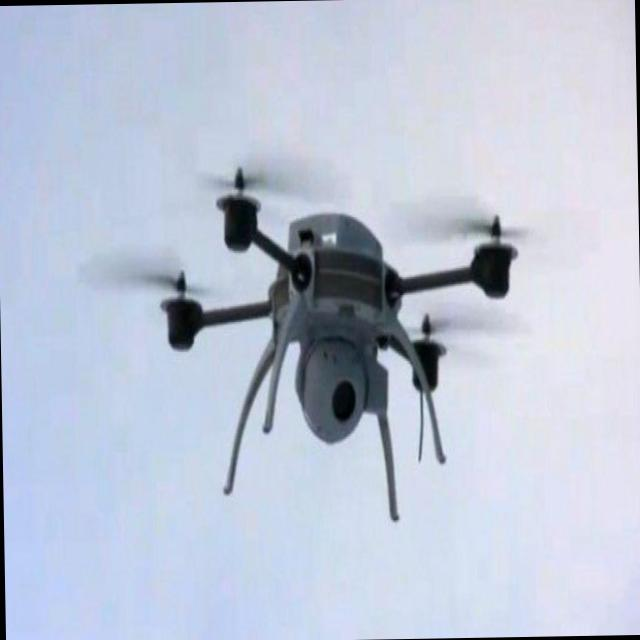drone: (154, 158, 524, 524)
